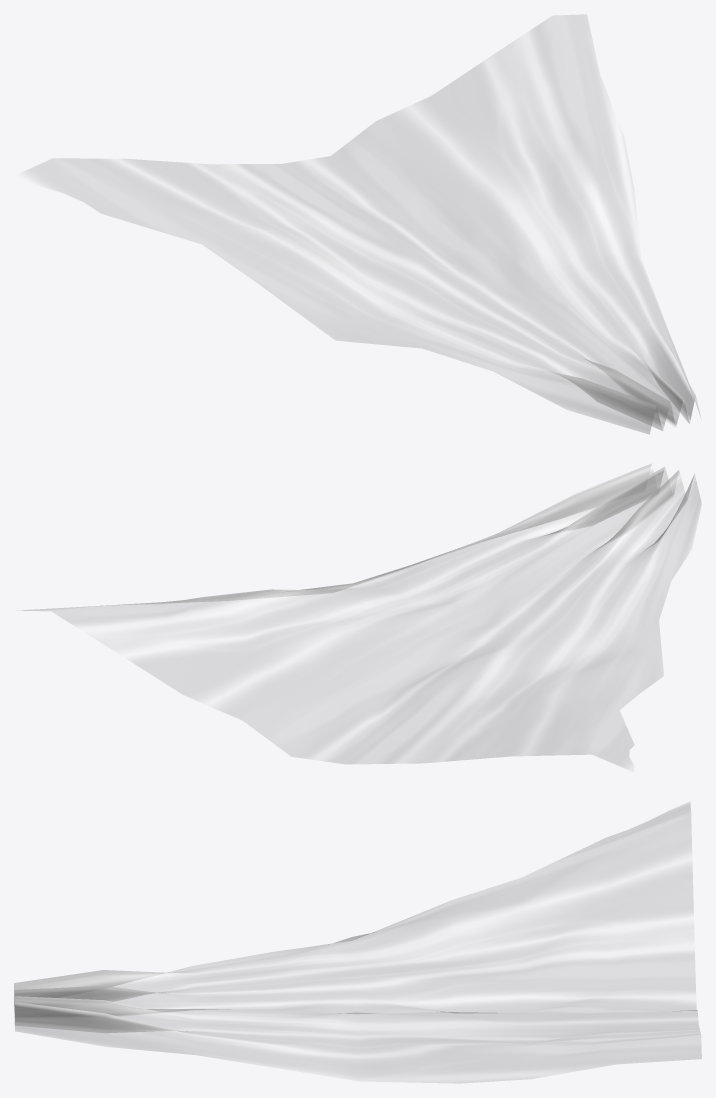
The model's file is wind.glb.
The picture shows the model from 3 angles, top to bottom: view 1: azimuth 30°, elevation 25°; view 2: azimuth 150°, elevation 25°; view 3: azimuth 270°, elevation 25°; orthographic projection. The views are drawn at different scales.
Visible parts, largest first — view 1: Wind; view 2: Wind; view 3: Wind.
Boxes of the visible parts, left/top/right/bottom form: Wind: left=14, top=14, right=701, bottom=434; Wind: left=22, top=463, right=701, bottom=772; Wind: left=14, top=802, right=701, bottom=1083.
Size of the model in its own units: 1.33 by 0.2103 by 1.41.
Materials: 1 (1 with a texture image).
